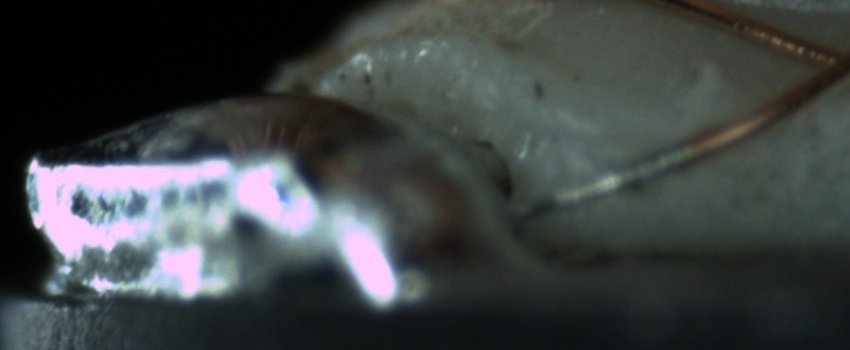CL: (778, 27, 850, 96)
TS: (519, 144, 688, 216)
